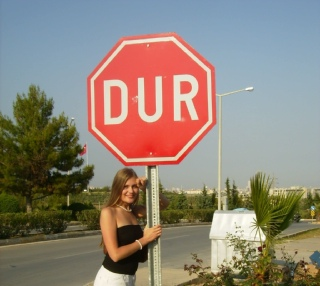dur: (74, 36, 213, 172)
yaya: (63, 168, 167, 280)
